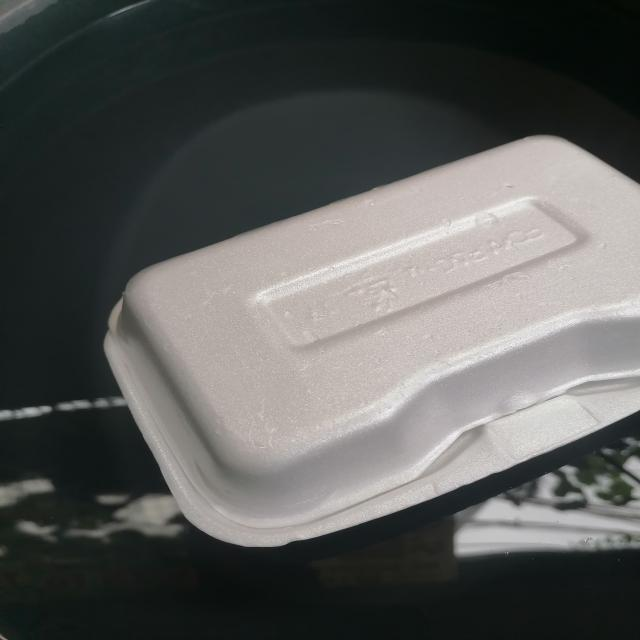Styrofoam Container: (105, 136, 640, 547)
